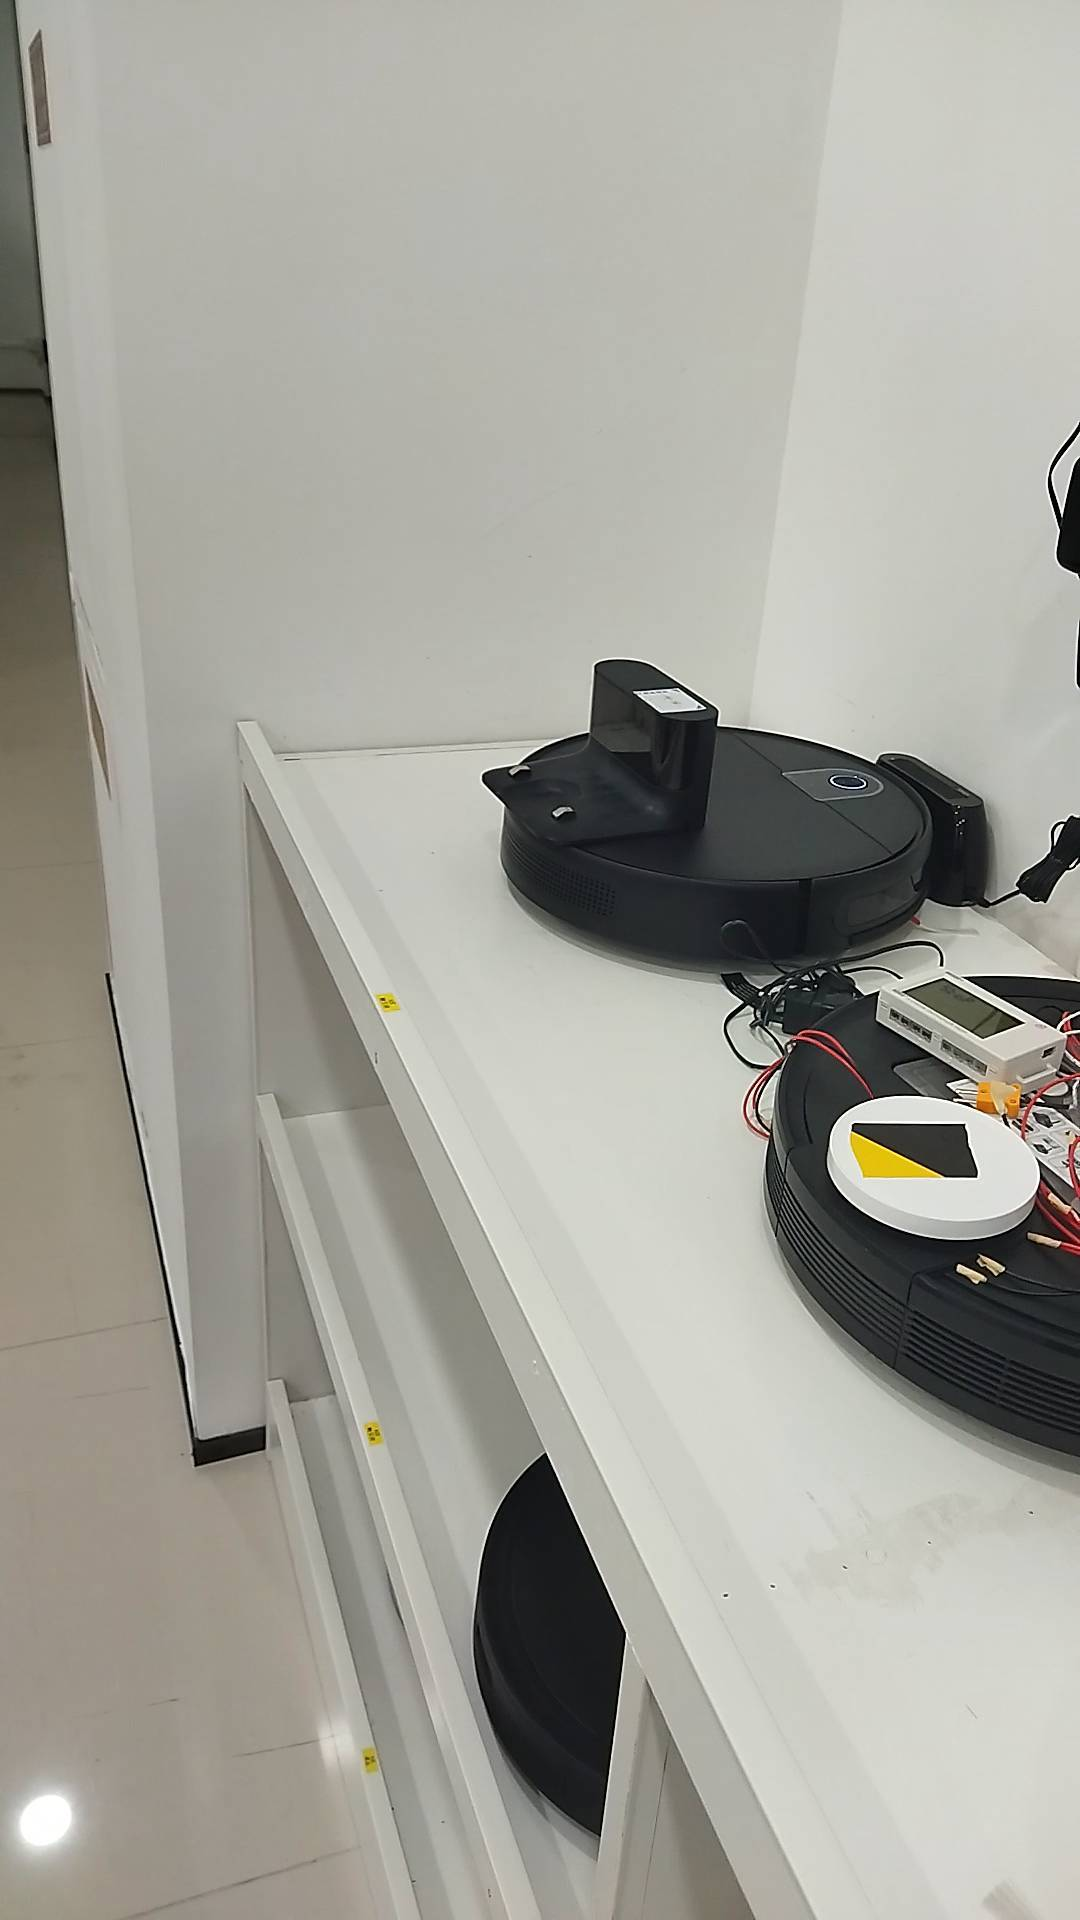recharge seat: (476, 659, 724, 851), (880, 748, 986, 911)
